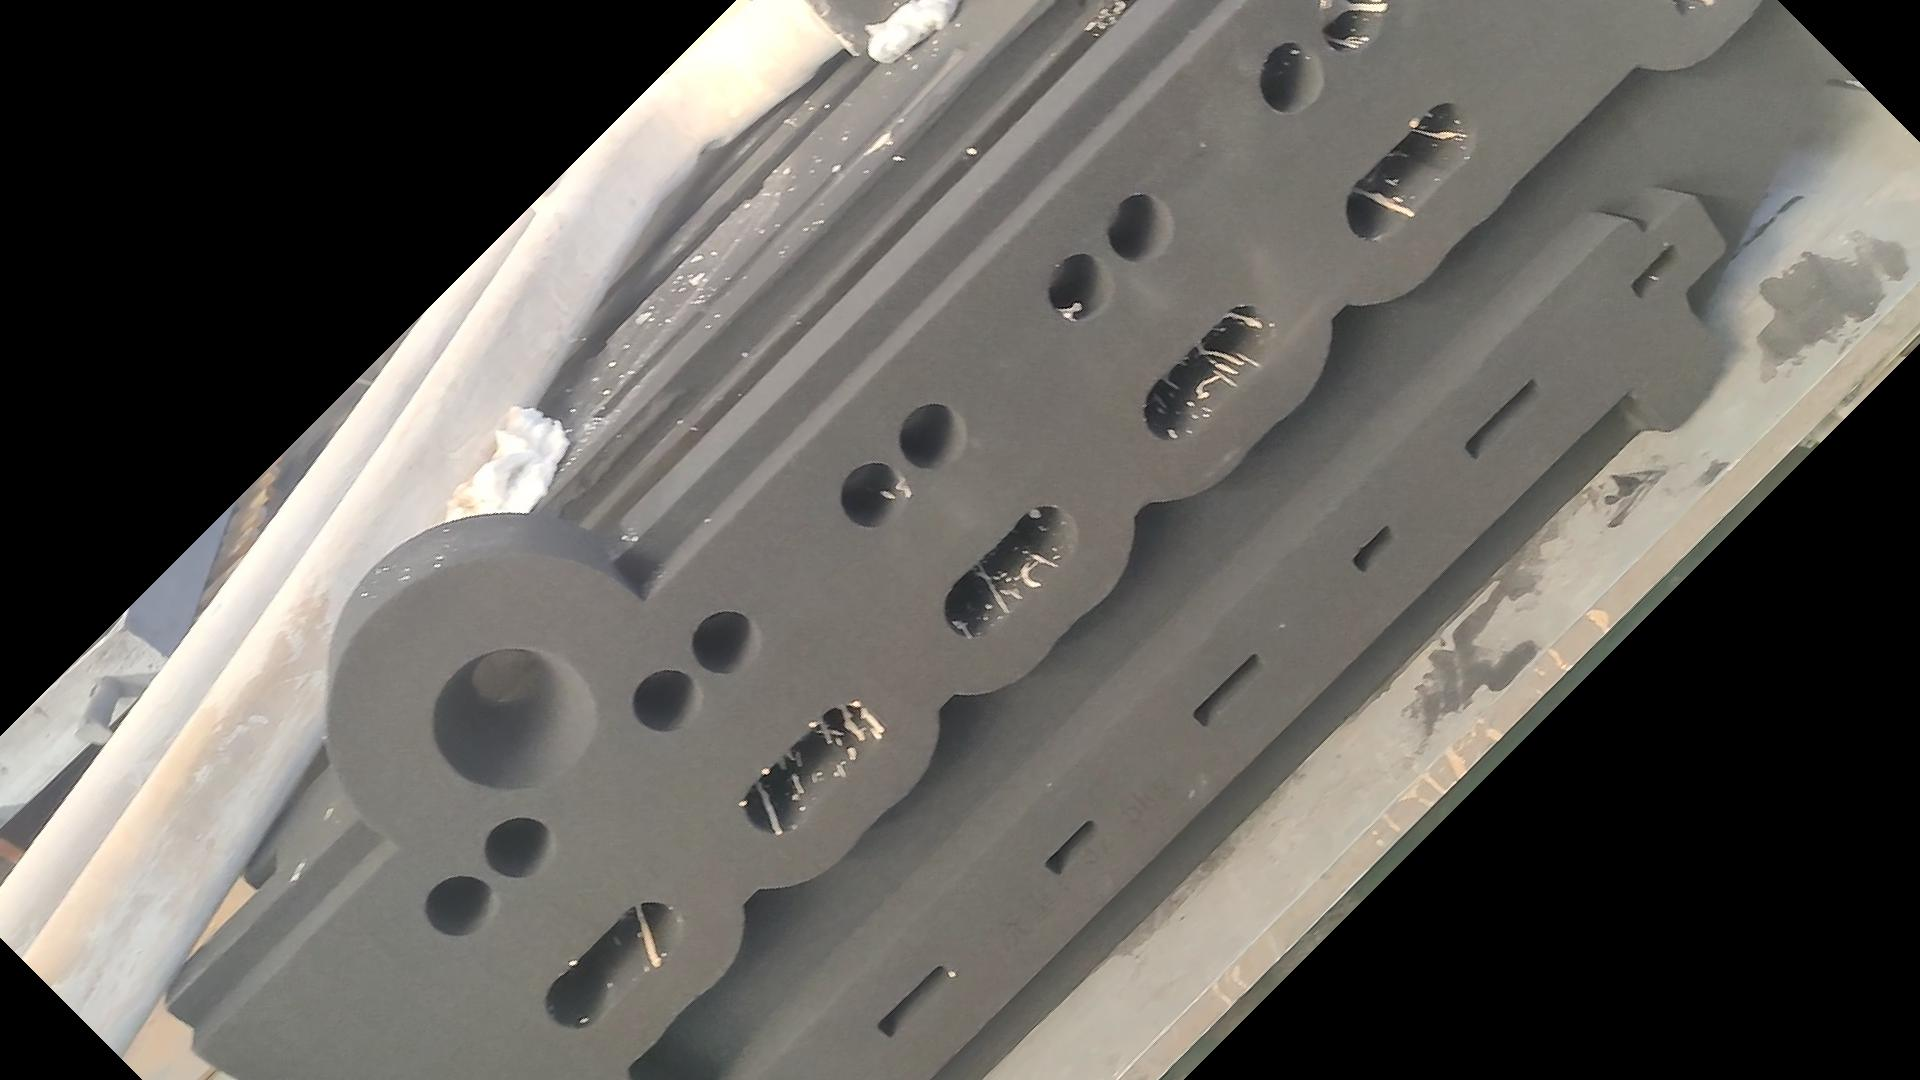pouring hole: (431, 649, 600, 789)
